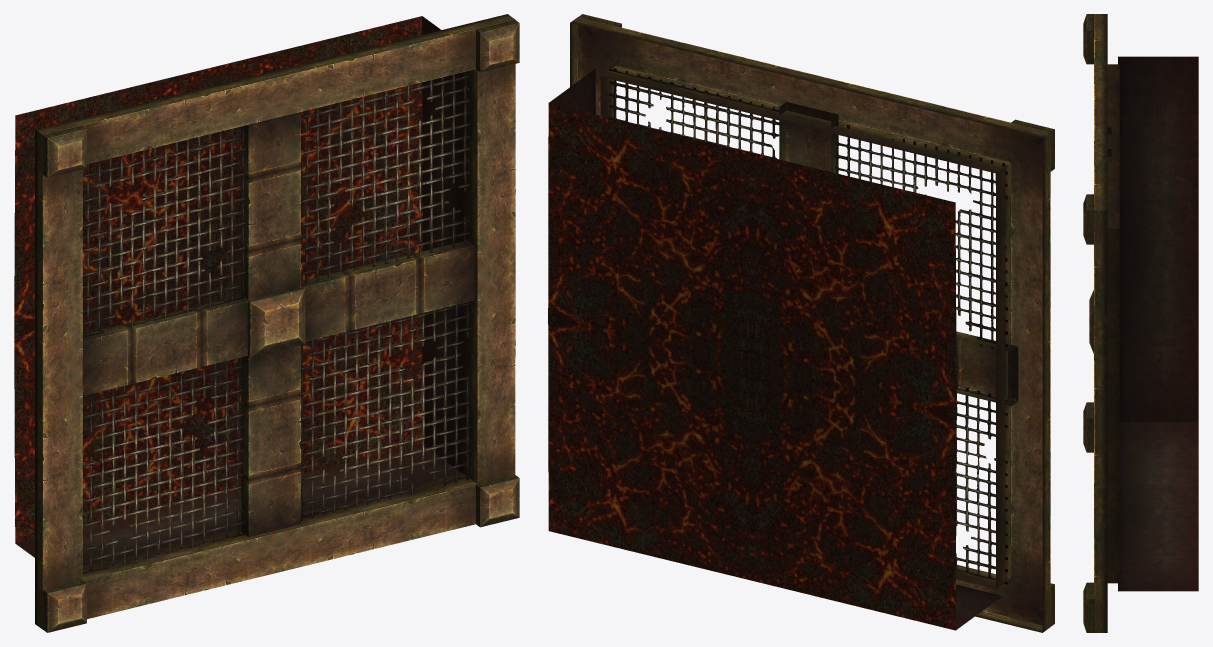
The model's file is taitan_fuben_01_tiewang_01.obj.
The picture shows the model from 3 angles, left to right: view 1: azimuth 30°, elevation 25°; view 2: azimuth 150°, elevation 25°; view 3: azimuth 270°, elevation 25°; orthographic projection. The views are drawn at different scales.
Parts seen in each view (by area): view 1: taitan_fuben_01_tiewang_01; view 2: taitan_fuben_01_tiewang_01; view 3: taitan_fuben_01_tiewang_01.
Part boxes in pixels (x1,y1,x2,y2): taitan_fuben_01_tiewang_01: (14, 14, 519, 632); taitan_fuben_01_tiewang_01: (548, 14, 1054, 632); taitan_fuben_01_tiewang_01: (1083, 14, 1198, 632).
Bounding box in the file's own units: 510 × 510 × 126.
Materials: 2 (2 with a texture image).
